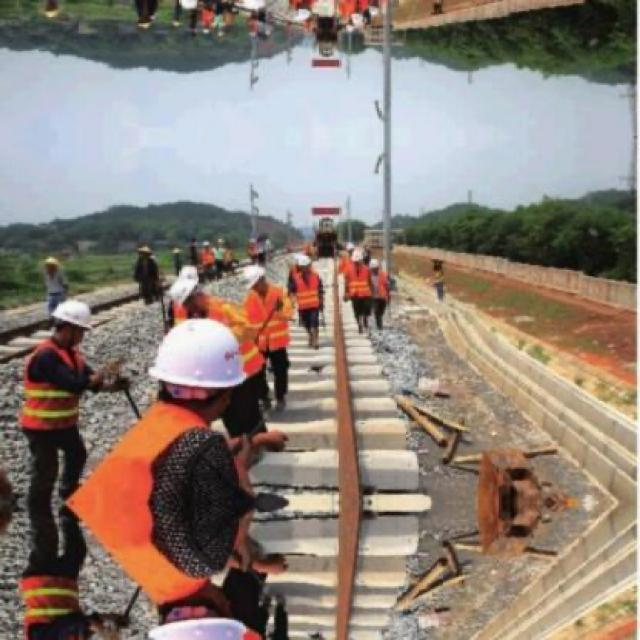helmet: (137, 316, 254, 418), (135, 588, 254, 638), (51, 296, 97, 347), (168, 274, 208, 308), (240, 264, 272, 296), (296, 0, 316, 22), (296, 253, 316, 274), (240, 0, 274, 12), (349, 252, 366, 272), (349, 4, 366, 24)
